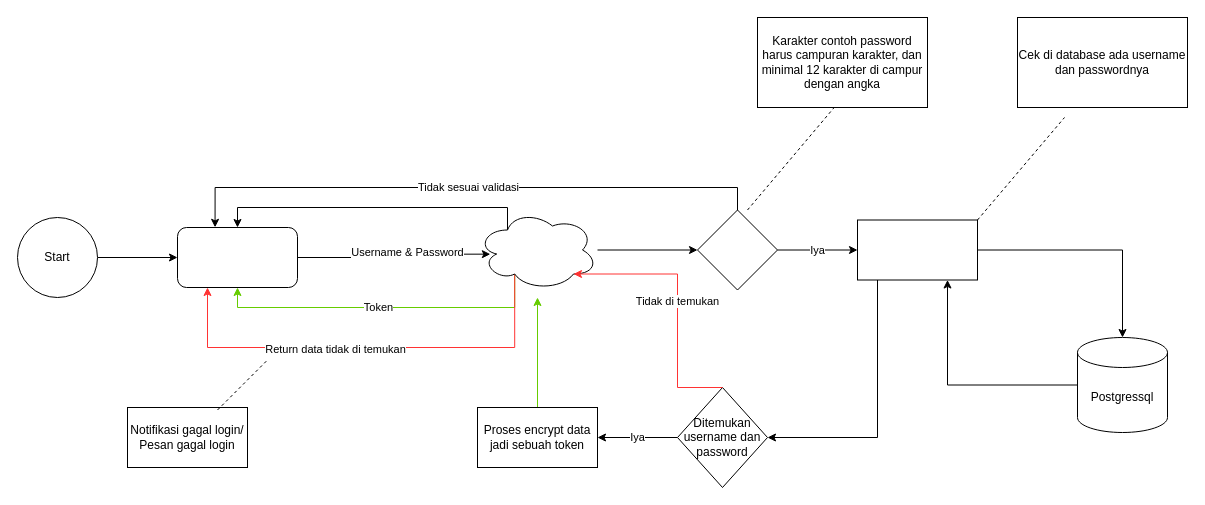
Some shapes in this 1205 by 505 pixel diagram are drawn without their labels. The shapes that lost their labels are listed below. From the top down, each one's box as (x1, y1, x2, y2) in pixels, then its label:
(176, 226, 298, 288): Login
(476, 209, 598, 290): Rest API
(696, 209, 778, 290): Validasi
(856, 219, 978, 280): Cek database
